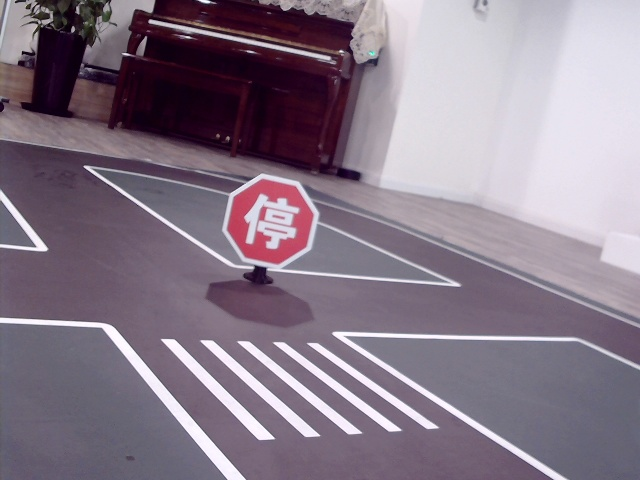stop: (243, 186, 300, 251)
